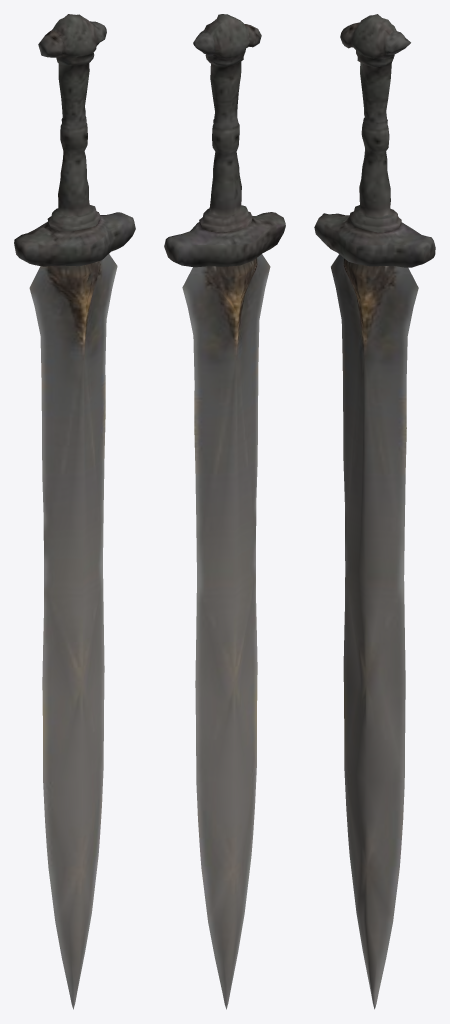
Rendered from weapon-wp_a_0273.glb.
The picture shows the model from 3 angles, left to right: view 1: azimuth 30°, elevation 25°; view 2: azimuth 210°, elevation 25°; view 3: azimuth 330°, elevation 25°; orthographic projection.
Visible parts, largest first — view 1: wp_a_0273_mesh; view 2: wp_a_0273_mesh; view 3: wp_a_0273_mesh.
Part boxes in pixels (<box>): wp_a_0273_mesh: <box>14,14,135,1009</box>; wp_a_0273_mesh: <box>164,14,285,1009</box>; wp_a_0273_mesh: <box>314,14,435,1009</box>.
Size of the model in its own units: 0.1405 by 1.19 by 0.0776.
1 material, 1 textured.
